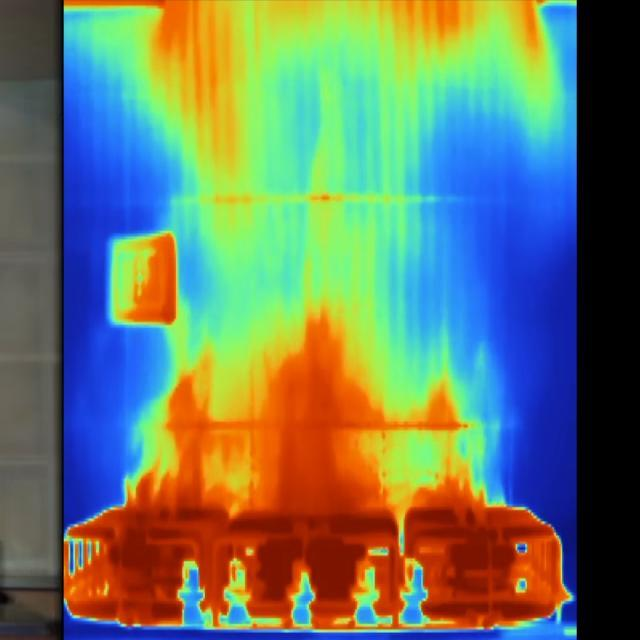fire: (200, 512, 396, 627), (405, 513, 564, 631), (67, 508, 201, 627)
